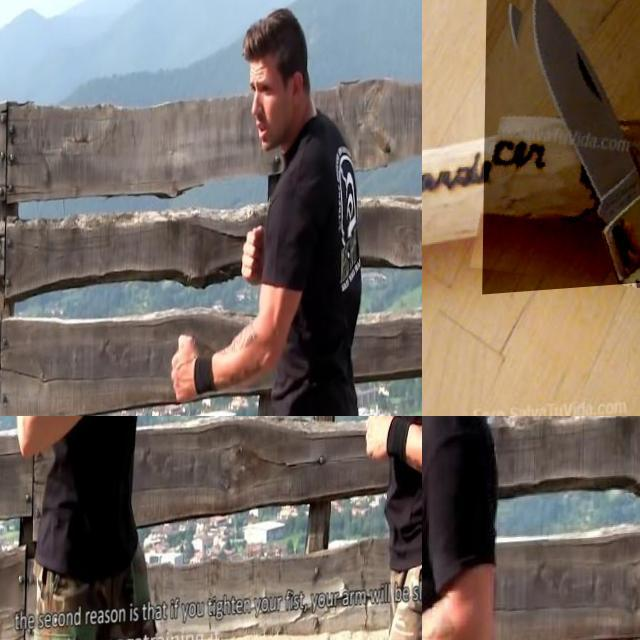-: (483, 0, 640, 298), (251, 416, 340, 461), (422, 416, 460, 504), (0, 350, 46, 416)
